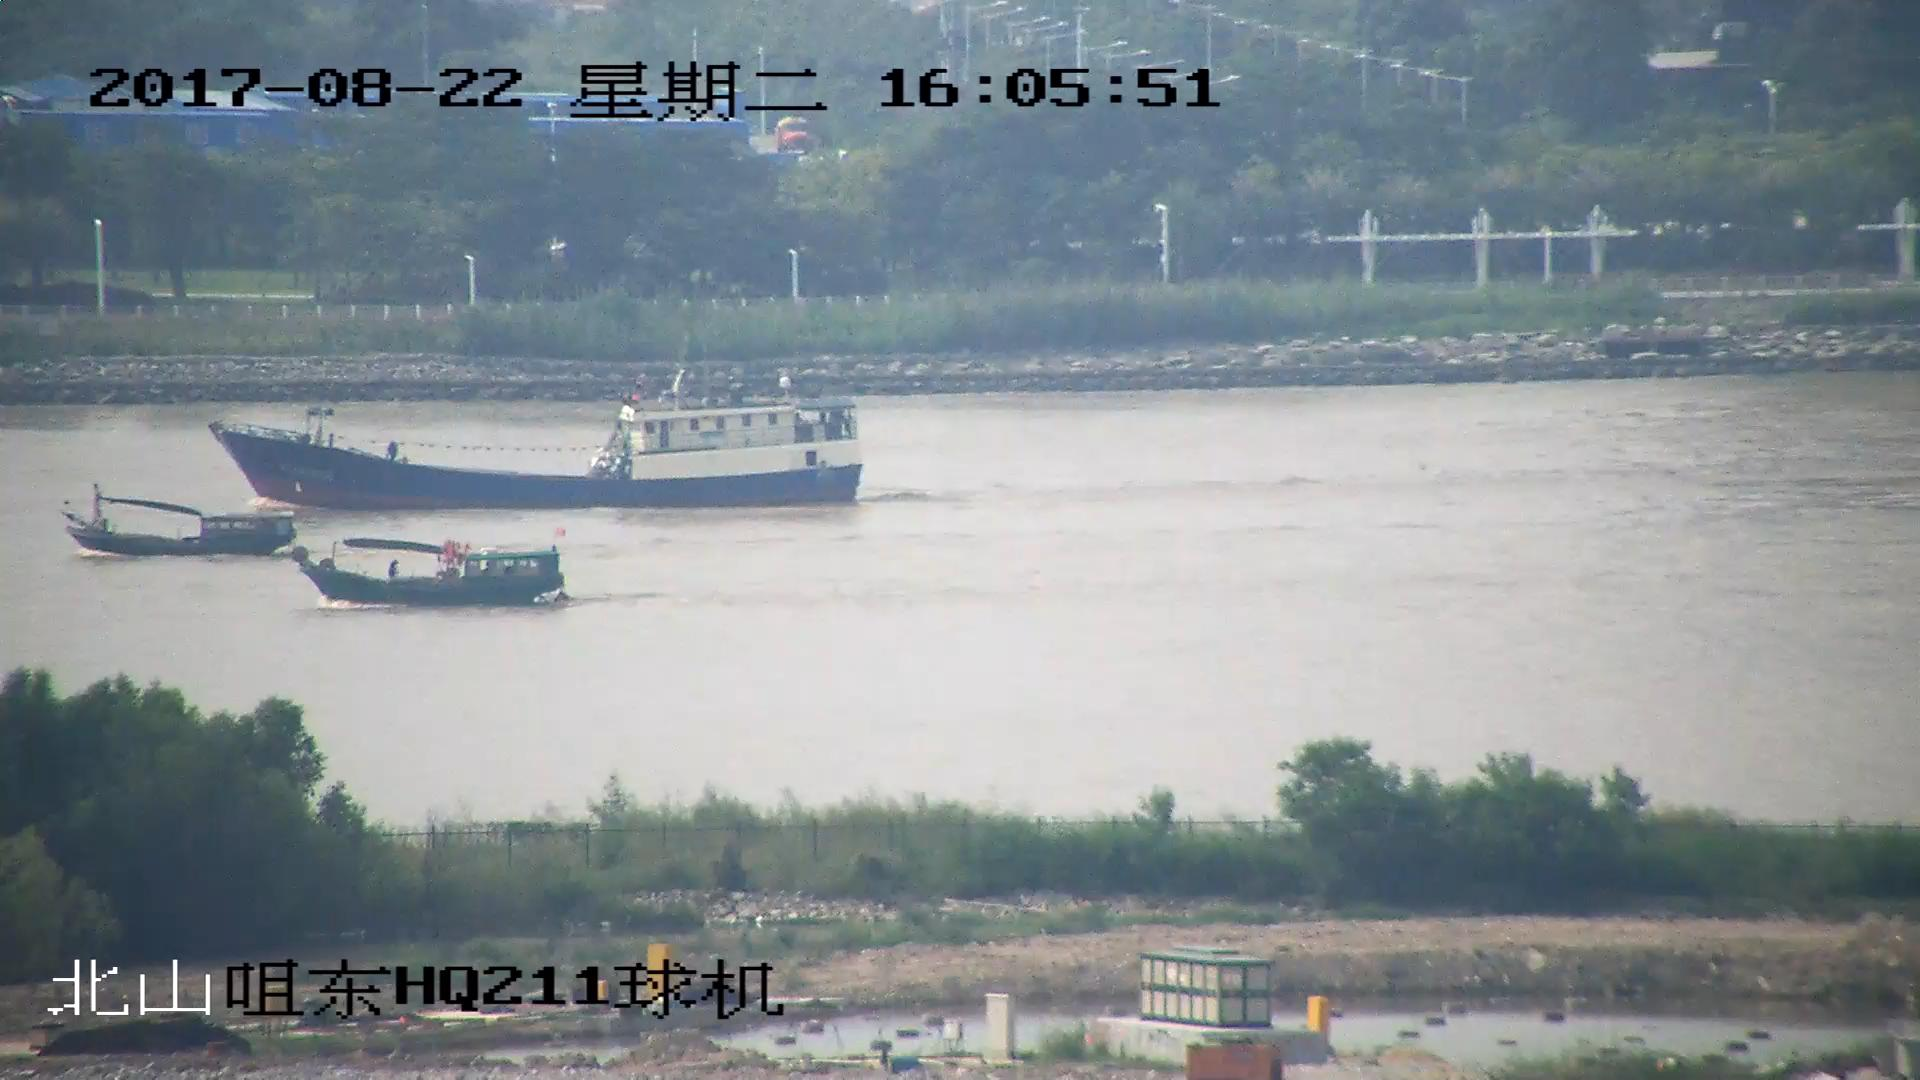fishing boat: (210, 382, 863, 514), (291, 535, 568, 608), (61, 484, 295, 558)
